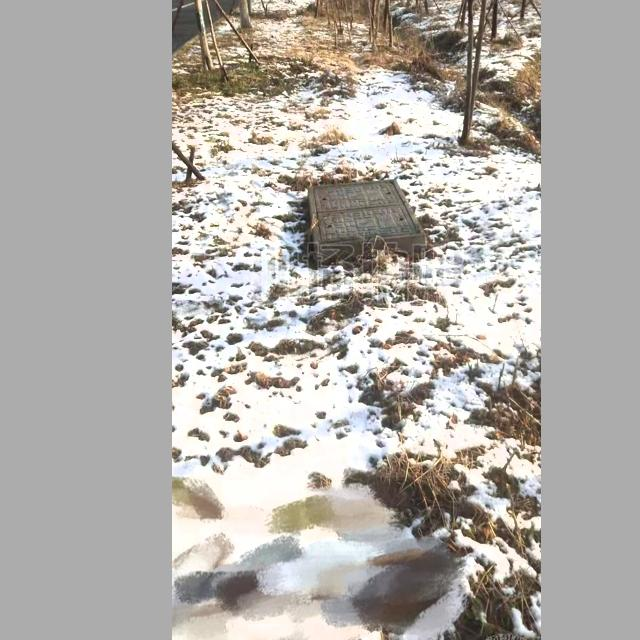circle: (302, 178, 434, 273)
